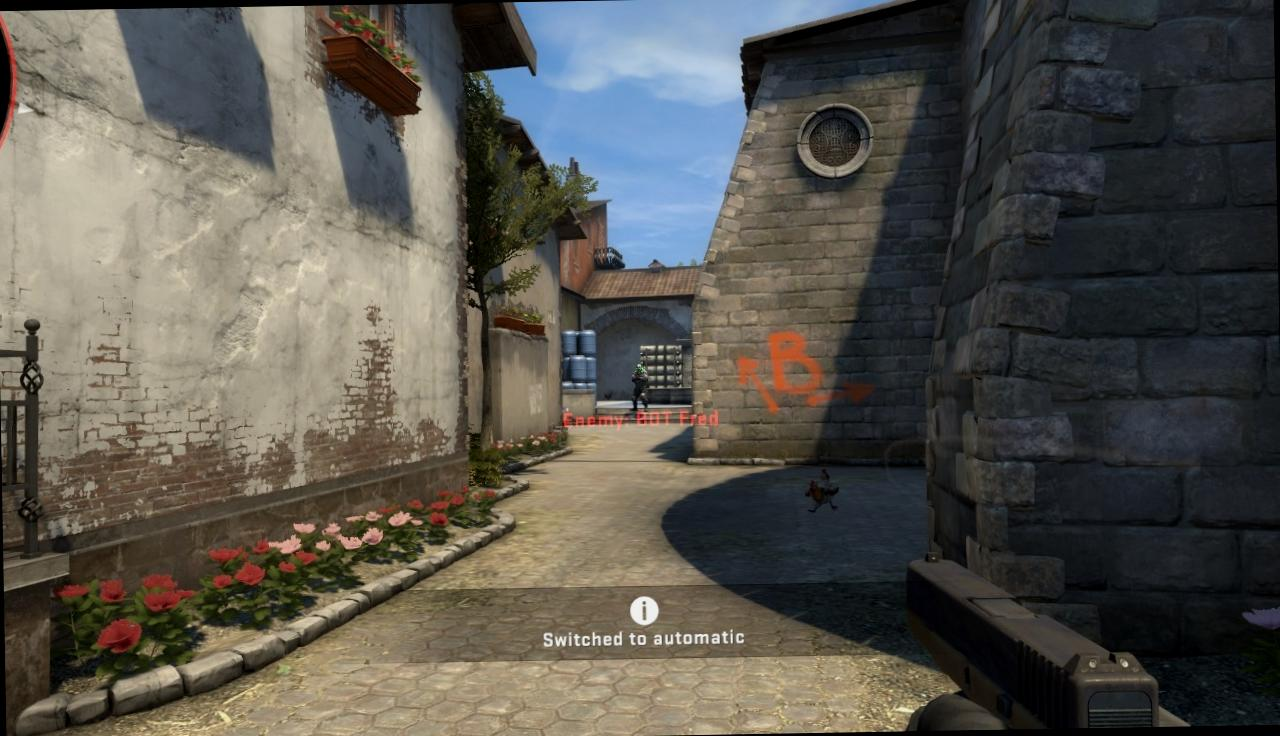ct: (630, 364, 649, 412)
cthead: (636, 364, 642, 372)
pistol: (902, 546, 1212, 732)
